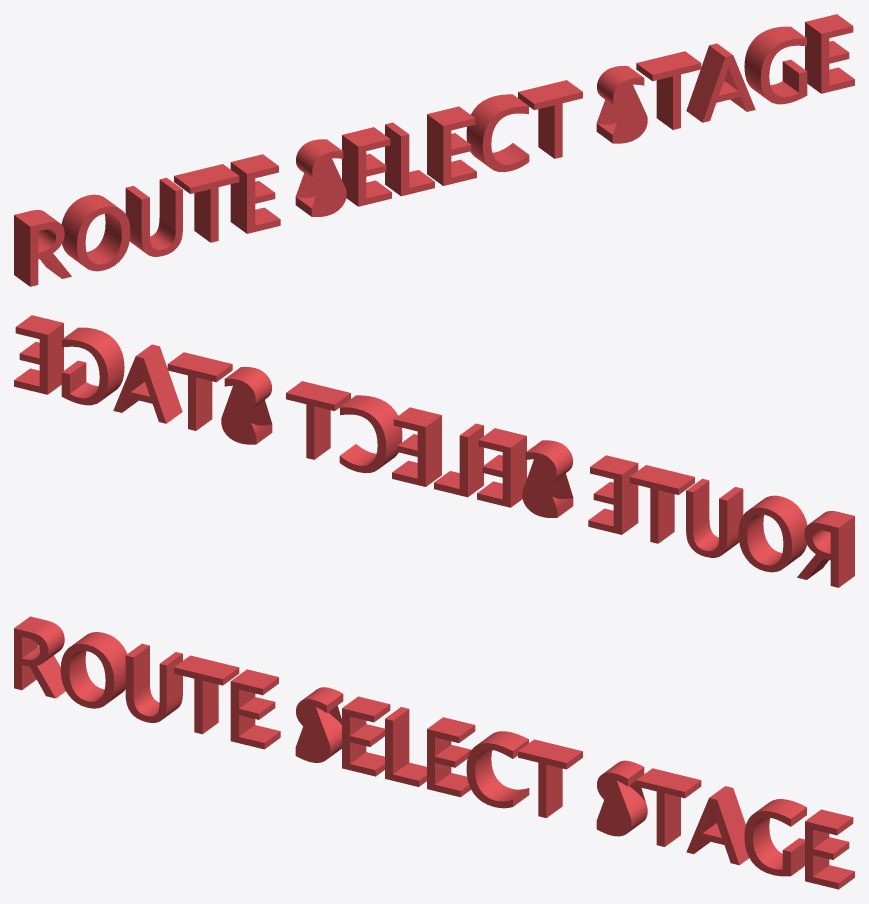
The model's file is Route Select Stage Text.fbx.
The picture shows the model from 3 angles, top to bottom: view 1: azimuth 30°, elevation 25°; view 2: azimuth 150°, elevation 25°; view 3: azimuth 330°, elevation 25°; orthographic projection.
Visible parts, largest first — view 1: typeMesh1; view 2: typeMesh1; view 3: typeMesh1.
Part boxes in pixels (x1,y1,x2,y2): typeMesh1: [14, 14, 854, 286]; typeMesh1: [14, 315, 854, 587]; typeMesh1: [14, 616, 854, 889].
Bounding box in the file's own units: 38.69 × 2.83 × 1.32.
